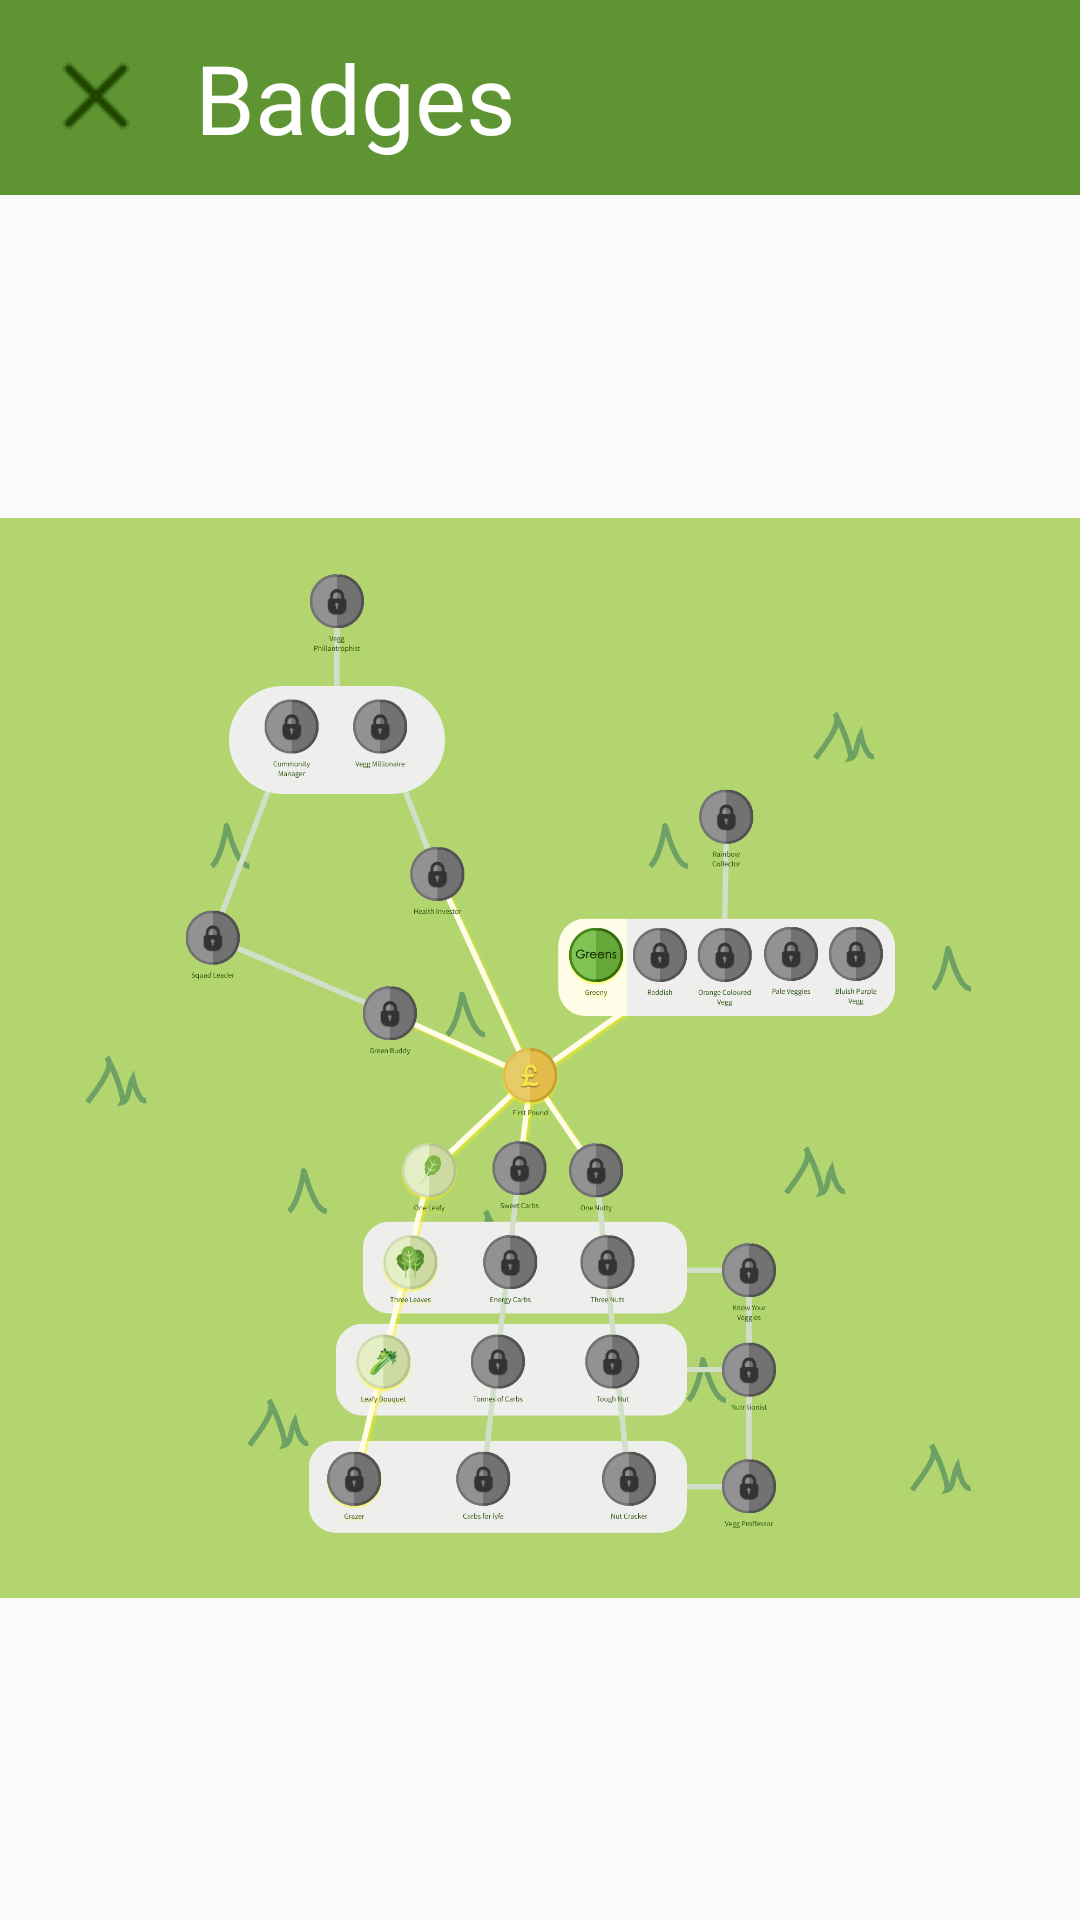

Icons on this 1080 × 1920 Android screen, each with its box as (x1=x1, y1=y1, x2=x2, y2=y2):
close: (x1=64, y1=64, x2=128, y2=128)
